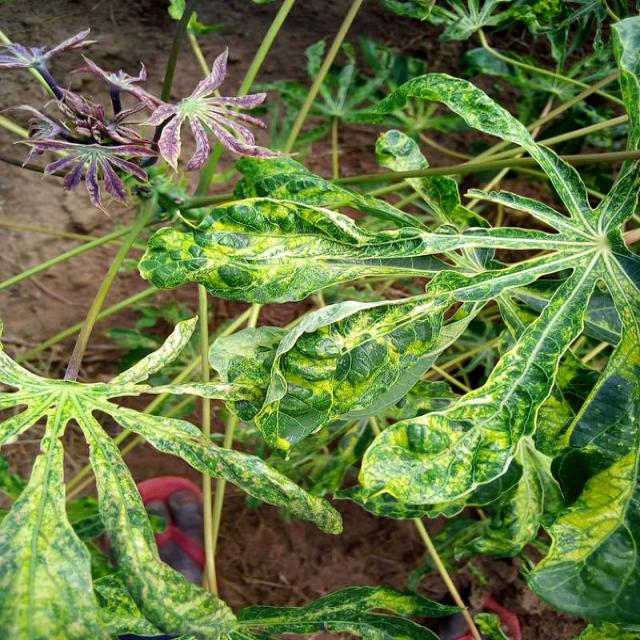cassava leaf: (134, 18, 638, 631)
